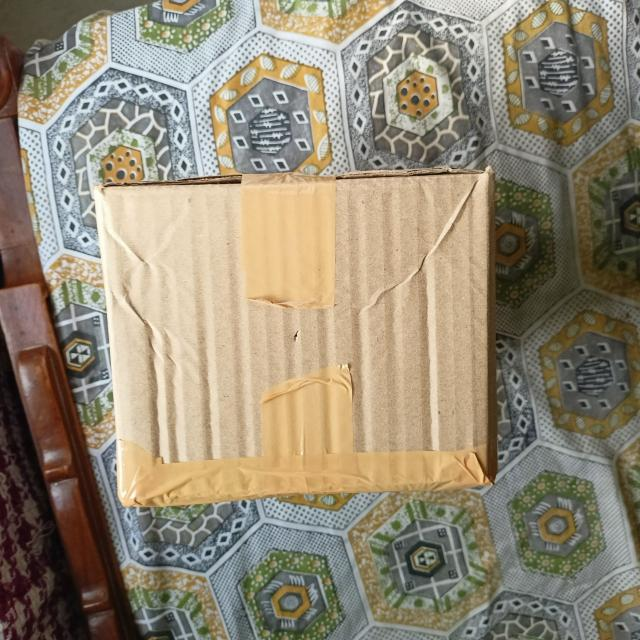box: (102, 173, 489, 507)
